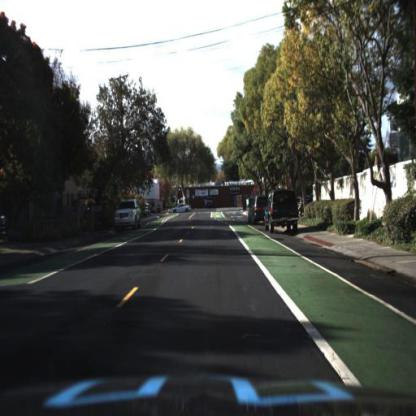car: (265, 188, 301, 236), (113, 197, 144, 233), (249, 193, 267, 227), (170, 202, 193, 218)
